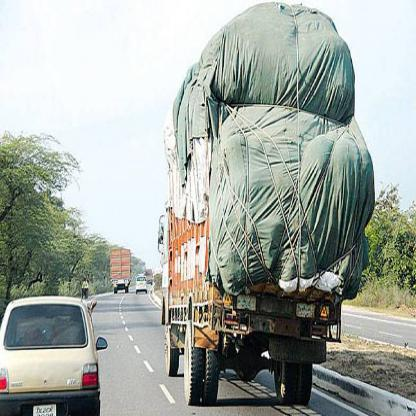overloaded-truck: (168, 18, 363, 415)
